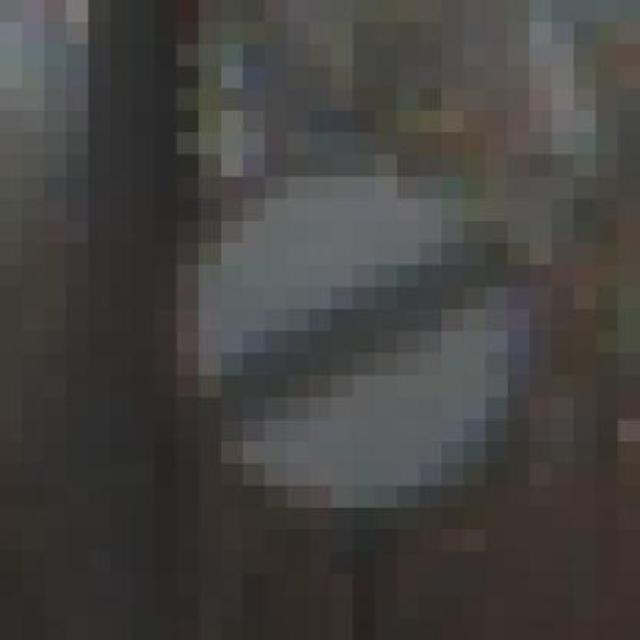End of all speed and passing limits: (132, 168, 552, 543)
